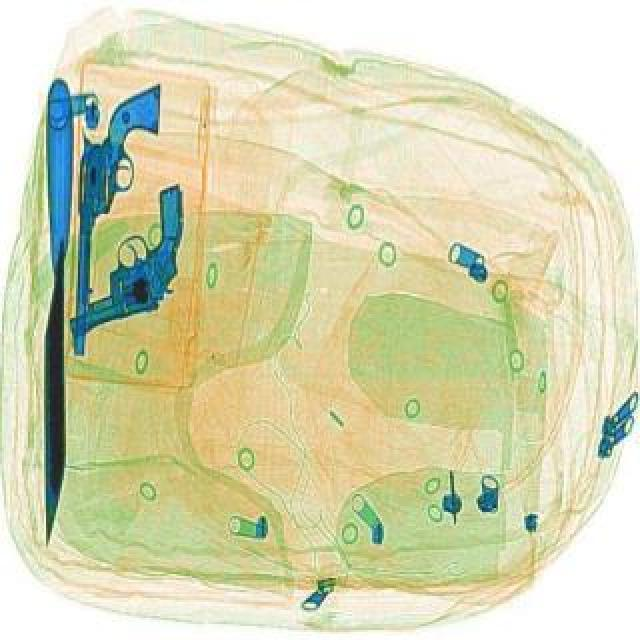gun: (34, 182, 226, 338), (74, 82, 162, 356)
knife: (34, 78, 82, 546)
